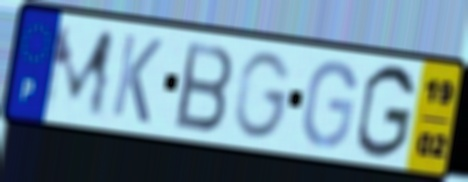B: (173, 38, 237, 135)
G: (353, 61, 418, 162), (232, 48, 295, 142), (299, 58, 360, 151)
K: (108, 29, 166, 127)
M: (38, 24, 118, 120)
